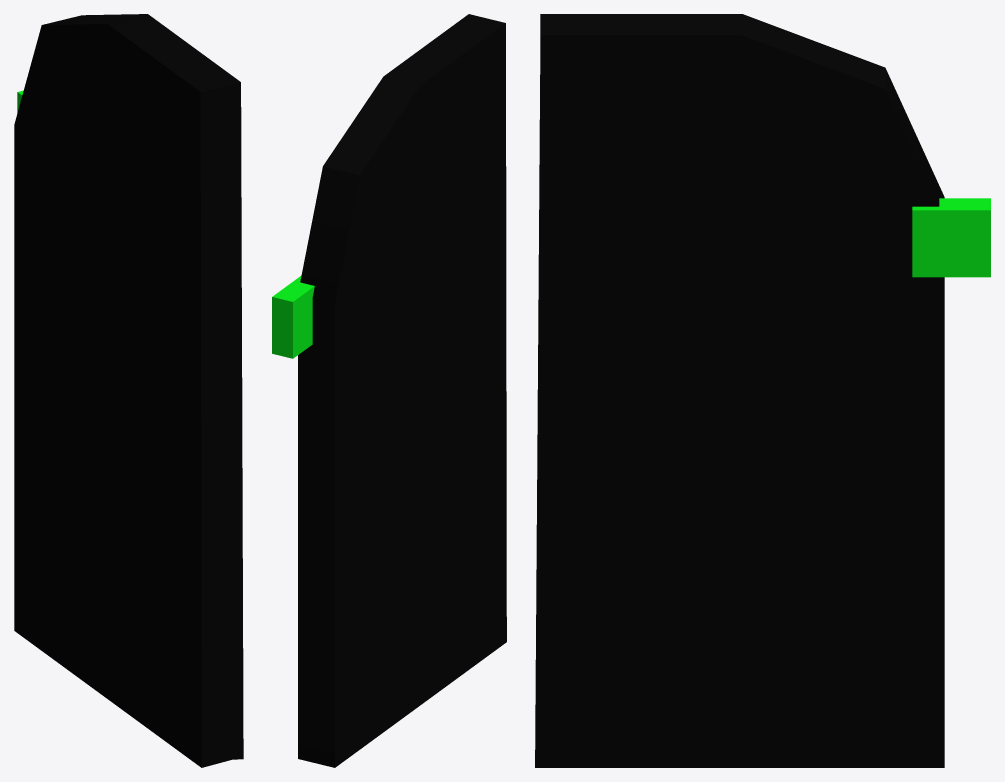
File: Left_Right_Door_2.fbx
The picture shows the model from 3 angles, left to right: view 1: azimuth 30°, elevation 25°; view 2: azimuth 150°, elevation 25°; view 3: azimuth 270°, elevation 25°; orthographic projection. The views are drawn at different scales.
Parts seen in each view (by area): view 1: polySurface13; view 2: polySurface13; view 3: polySurface13.
Boxes of the visible parts, x1=… form: polySurface13: x1=14, y1=14, x2=243, y2=767; polySurface13: x1=272, y1=14, x2=506, y2=767; polySurface13: x1=535, y1=14, x2=990, y2=767.
Size of the model in its own units: 0.2413 by 3.3 by 1.86.
